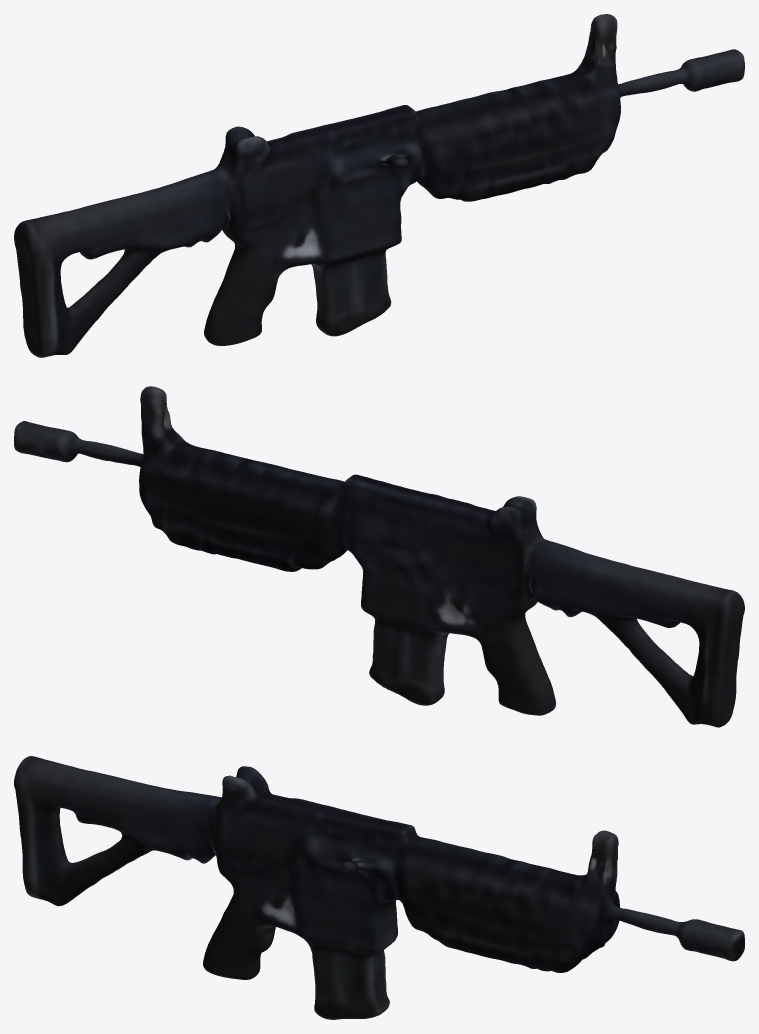
The model's file is Assault Auto-Rifle_mesh.glb.
3 renders of one model, top to bottom at view 1: azimuth 30°, elevation 25°; view 2: azimuth 150°, elevation 25°; view 3: azimuth 330°, elevation 25°, orthographic.
Parts seen in each view (by area): view 1: world; view 2: world; view 3: world.
Boxes of the visible parts, x1,y1,x2,y2 form: world: [14, 14, 744, 357]; world: [14, 386, 744, 727]; world: [14, 756, 744, 1019].
Size of the model in its own units: 0.6002 by 0.199 by 0.0658.
1 material, 1 textured.
